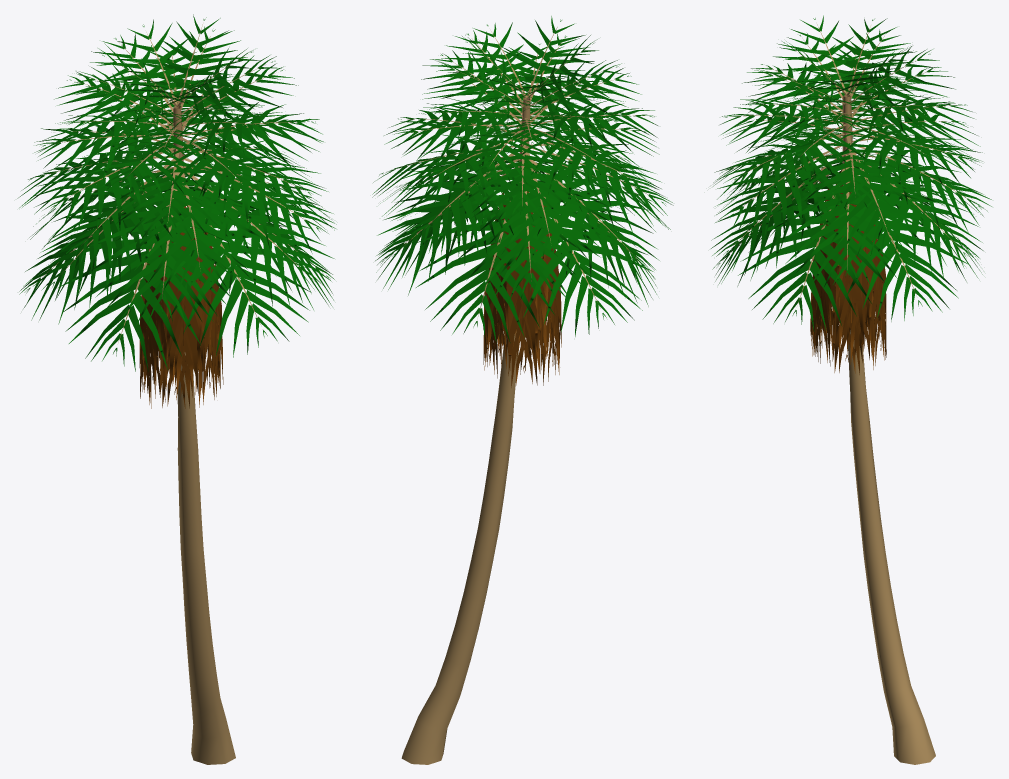
File: palmTest.FBX
3 renders of one model, left to right at view 1: azimuth 30°, elevation 25°; view 2: azimuth 150°, elevation 25°; view 3: azimuth 270°, elevation 25°, orthographic. The views are drawn at different scales.
Visible parts, largest first — view 1: Foliage001; view 2: Foliage001; view 3: Foliage001.
Part boxes in pixels (bbox=[...]): Foliage001: bbox=[17, 14, 336, 764]; Foliage001: bbox=[372, 16, 673, 764]; Foliage001: bbox=[711, 15, 991, 764].
Bounding box in the file's own units: 166 × 421 × 162.
